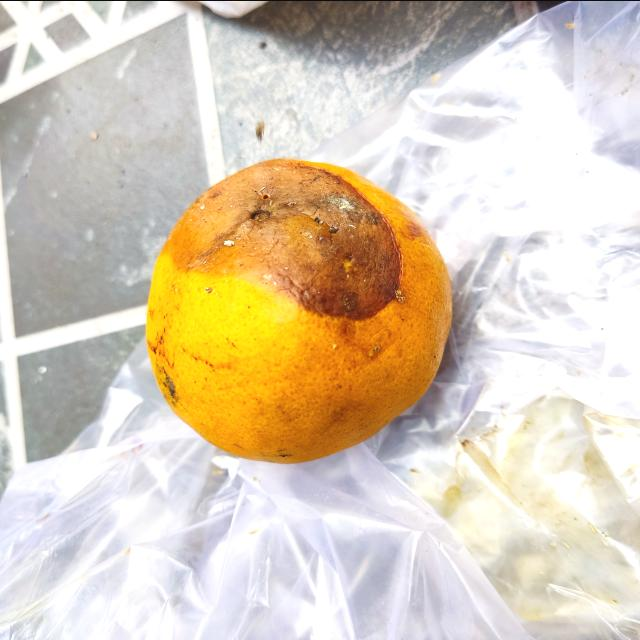orange: (144, 154, 453, 466)
